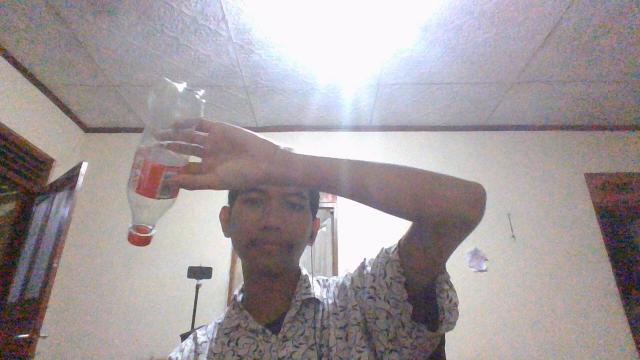coca-cola: (124, 76, 206, 247)
